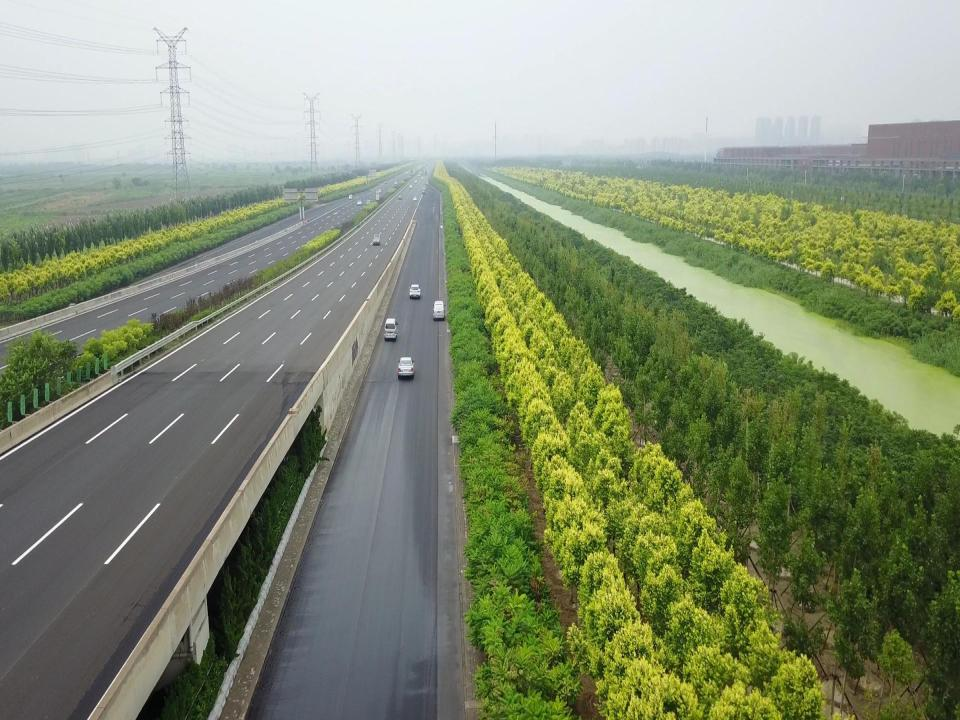car: (397, 356, 415, 379), (409, 284, 421, 300)
truck: (372, 233, 382, 246)
van: (384, 318, 398, 342), (432, 300, 446, 321)
